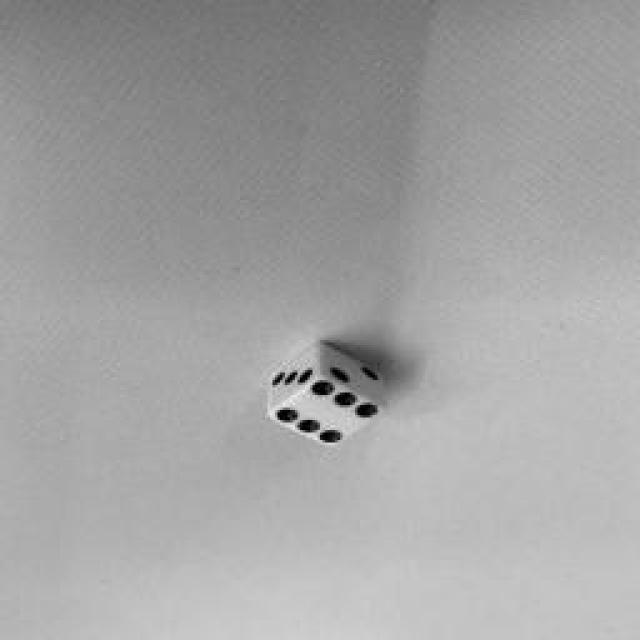dice_6: (270, 379, 385, 446)
